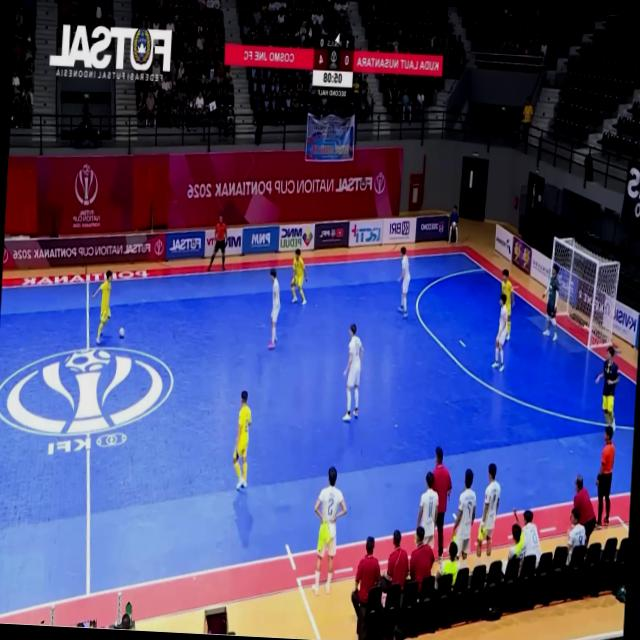official: (296, 453, 350, 540), (350, 537, 380, 639), (431, 446, 451, 562), (379, 529, 408, 593), (573, 476, 595, 544), (206, 216, 226, 271)
players: (312, 467, 345, 594), (452, 469, 475, 568), (476, 464, 499, 558), (342, 324, 362, 421), (595, 346, 618, 429), (232, 391, 250, 489), (416, 472, 437, 548), (92, 270, 111, 344), (491, 294, 507, 372), (542, 265, 558, 341), (521, 510, 539, 566), (500, 269, 514, 340), (267, 268, 279, 349), (291, 249, 306, 305), (398, 246, 409, 317)
referee: (595, 426, 614, 528), (206, 216, 226, 271)
